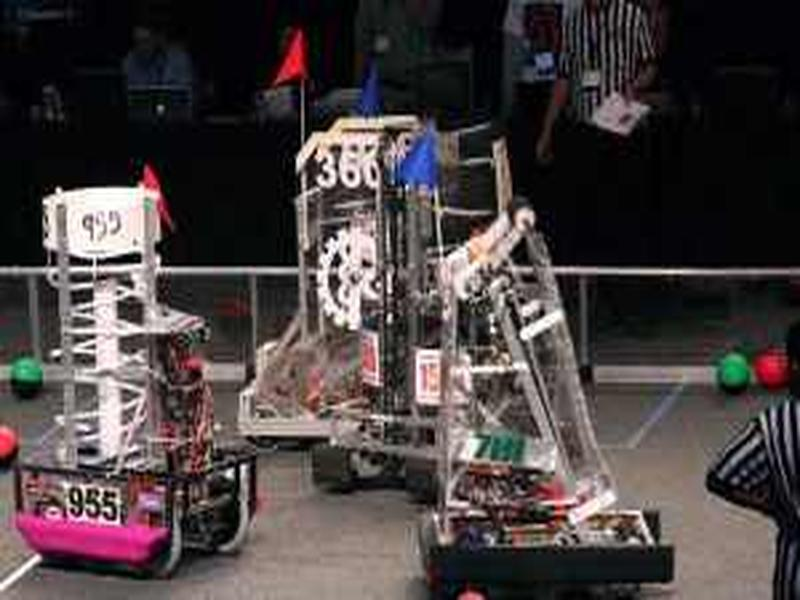robot: (417, 201, 683, 597), (6, 302, 259, 579)
